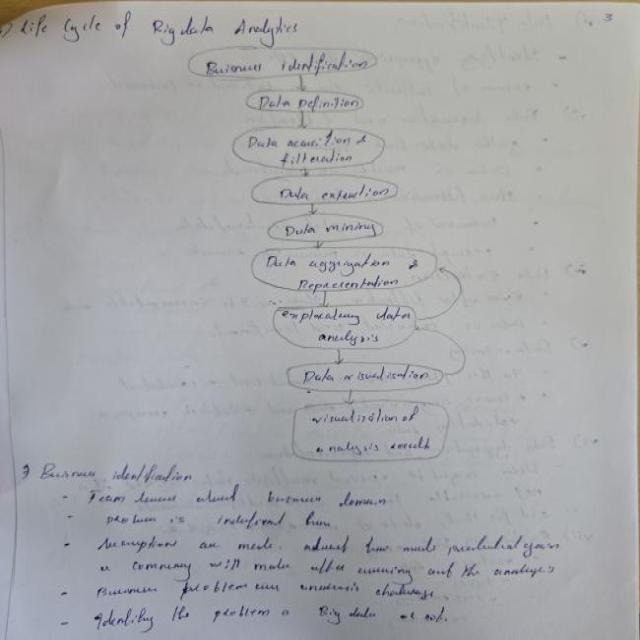Figure Detection - v3 Dataset Version2: (165, 32, 488, 474)
